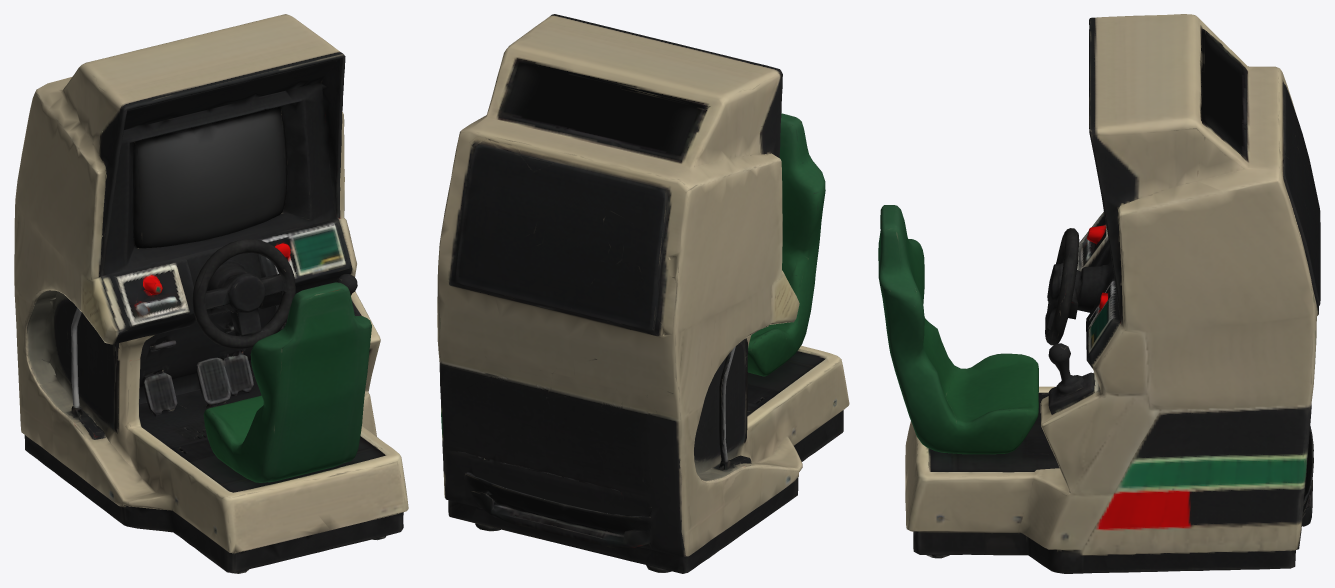
Rendered from 16_arcade_16_racer_green.glb.
The picture shows the model from 3 angles, left to right: view 1: azimuth 30°, elevation 25°; view 2: azimuth 150°, elevation 25°; view 3: azimuth 270°, elevation 25°; orthographic projection. The views are drawn at different scales.
Parts seen in each view (by area): view 1: world; view 2: world; view 3: world.
Boxes of the visible parts, x1,y1,x2,y2 form: world: [14, 14, 408, 573]; world: [437, 14, 849, 573]; world: [878, 14, 1320, 573].
Bounding box in the file's own units: 0.6288 × 1 × 0.8903.
Materials: 1 (1 with a texture image).
